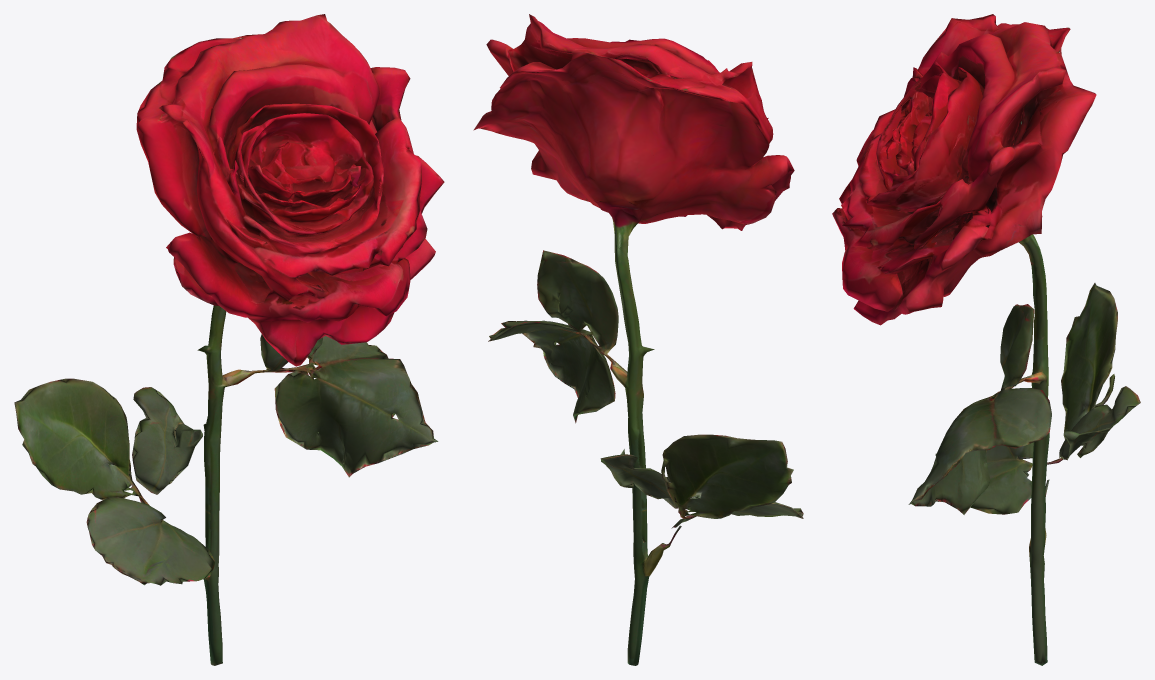
The model's file is Rose.glb.
3 views of the same model, side by side, from view 1: azimuth 30°, elevation 25°; view 2: azimuth 150°, elevation 25°; view 3: azimuth 270°, elevation 25° (orthographic). The views are drawn at different scales.
Bounding box in the file's own units: 1.19 × 1.99 × 0.8672.
1 material, 1 textured.
